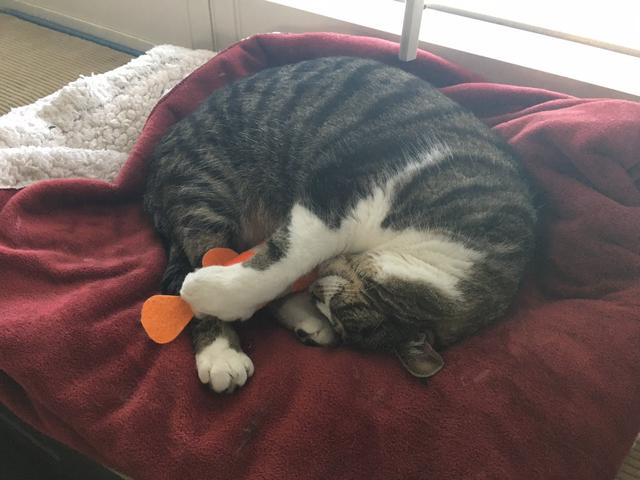clownfish: (141, 246, 311, 341)
playdoh: (138, 51, 542, 397)
